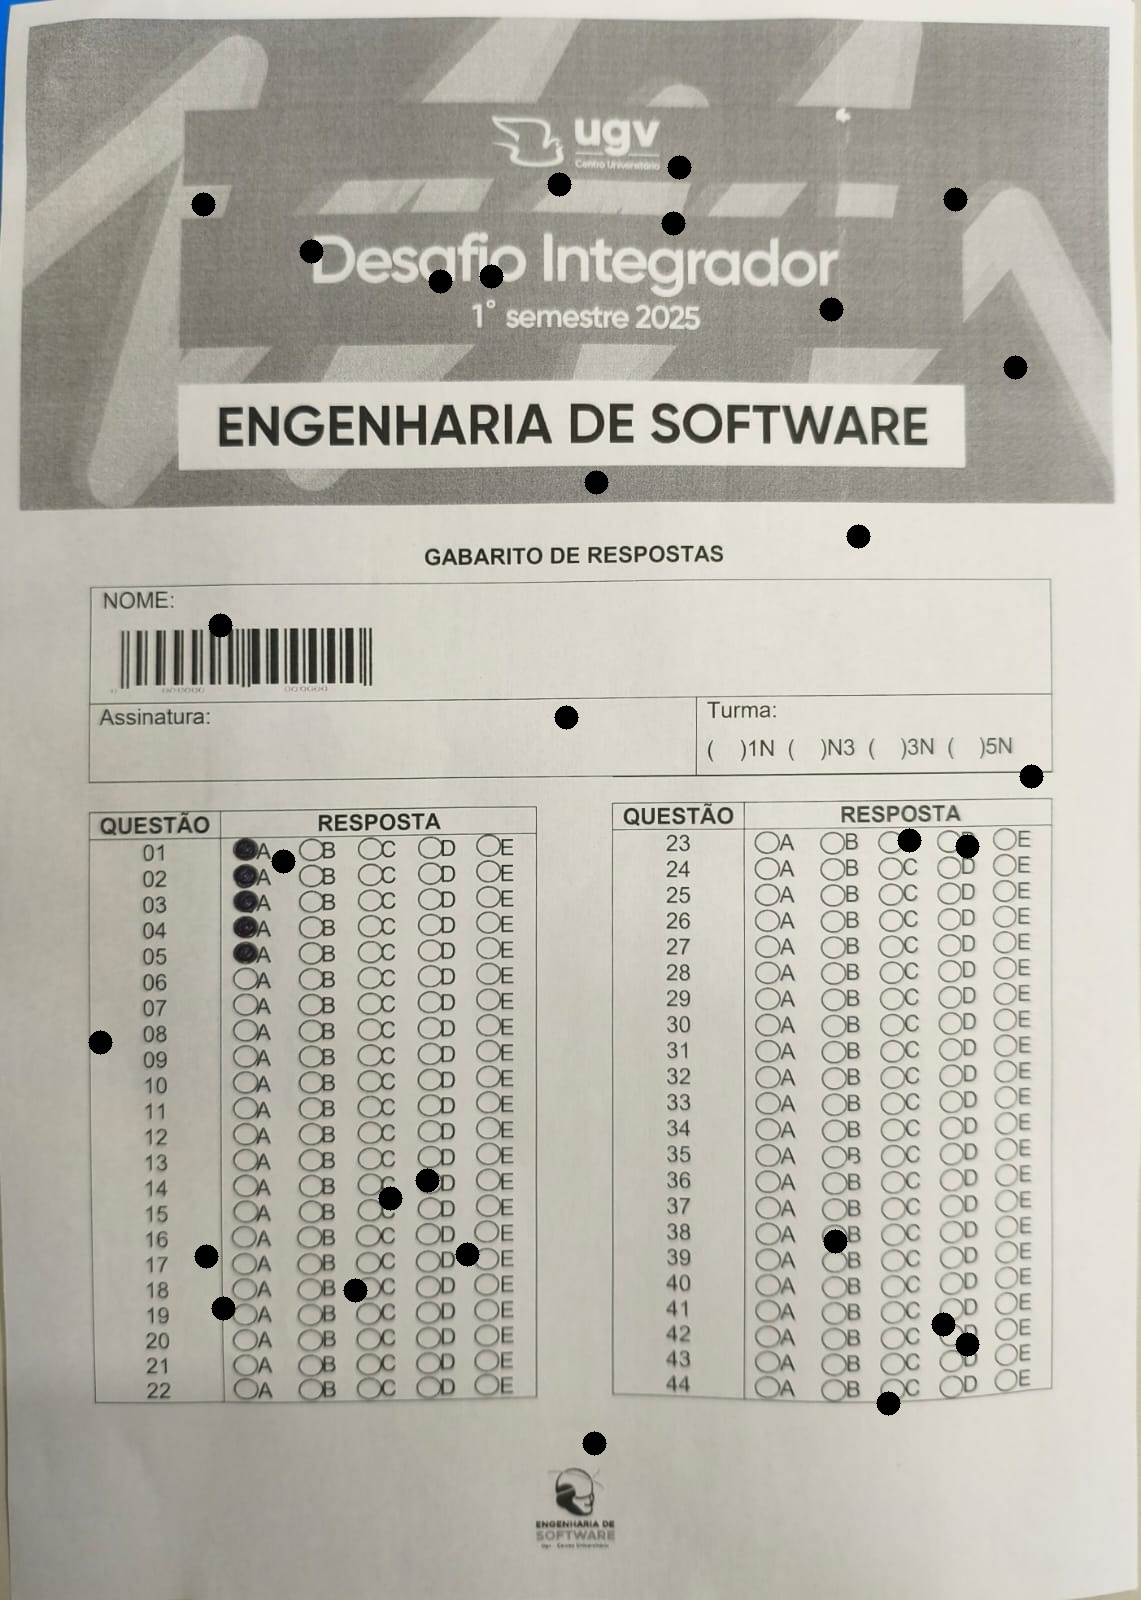bolinha: (88, 1025, 112, 1059), (846, 520, 871, 553), (819, 293, 843, 326), (876, 1386, 900, 1420), (378, 1181, 403, 1215), (822, 1225, 847, 1258), (194, 1240, 219, 1273), (299, 235, 324, 268), (667, 151, 692, 184), (415, 1163, 440, 1196), (207, 609, 232, 642), (661, 206, 685, 240), (582, 1426, 606, 1459), (1019, 759, 1043, 793), (270, 844, 295, 878), (955, 830, 979, 863), (454, 1237, 479, 1270), (955, 1327, 979, 1360), (896, 823, 921, 857), (1003, 351, 1027, 384), (547, 167, 570, 201), (343, 1273, 367, 1307), (584, 465, 608, 499), (943, 183, 967, 216), (211, 1291, 235, 1325), (554, 700, 578, 733), (479, 259, 503, 293), (931, 1307, 955, 1341), (191, 188, 215, 221), (428, 264, 452, 298)
